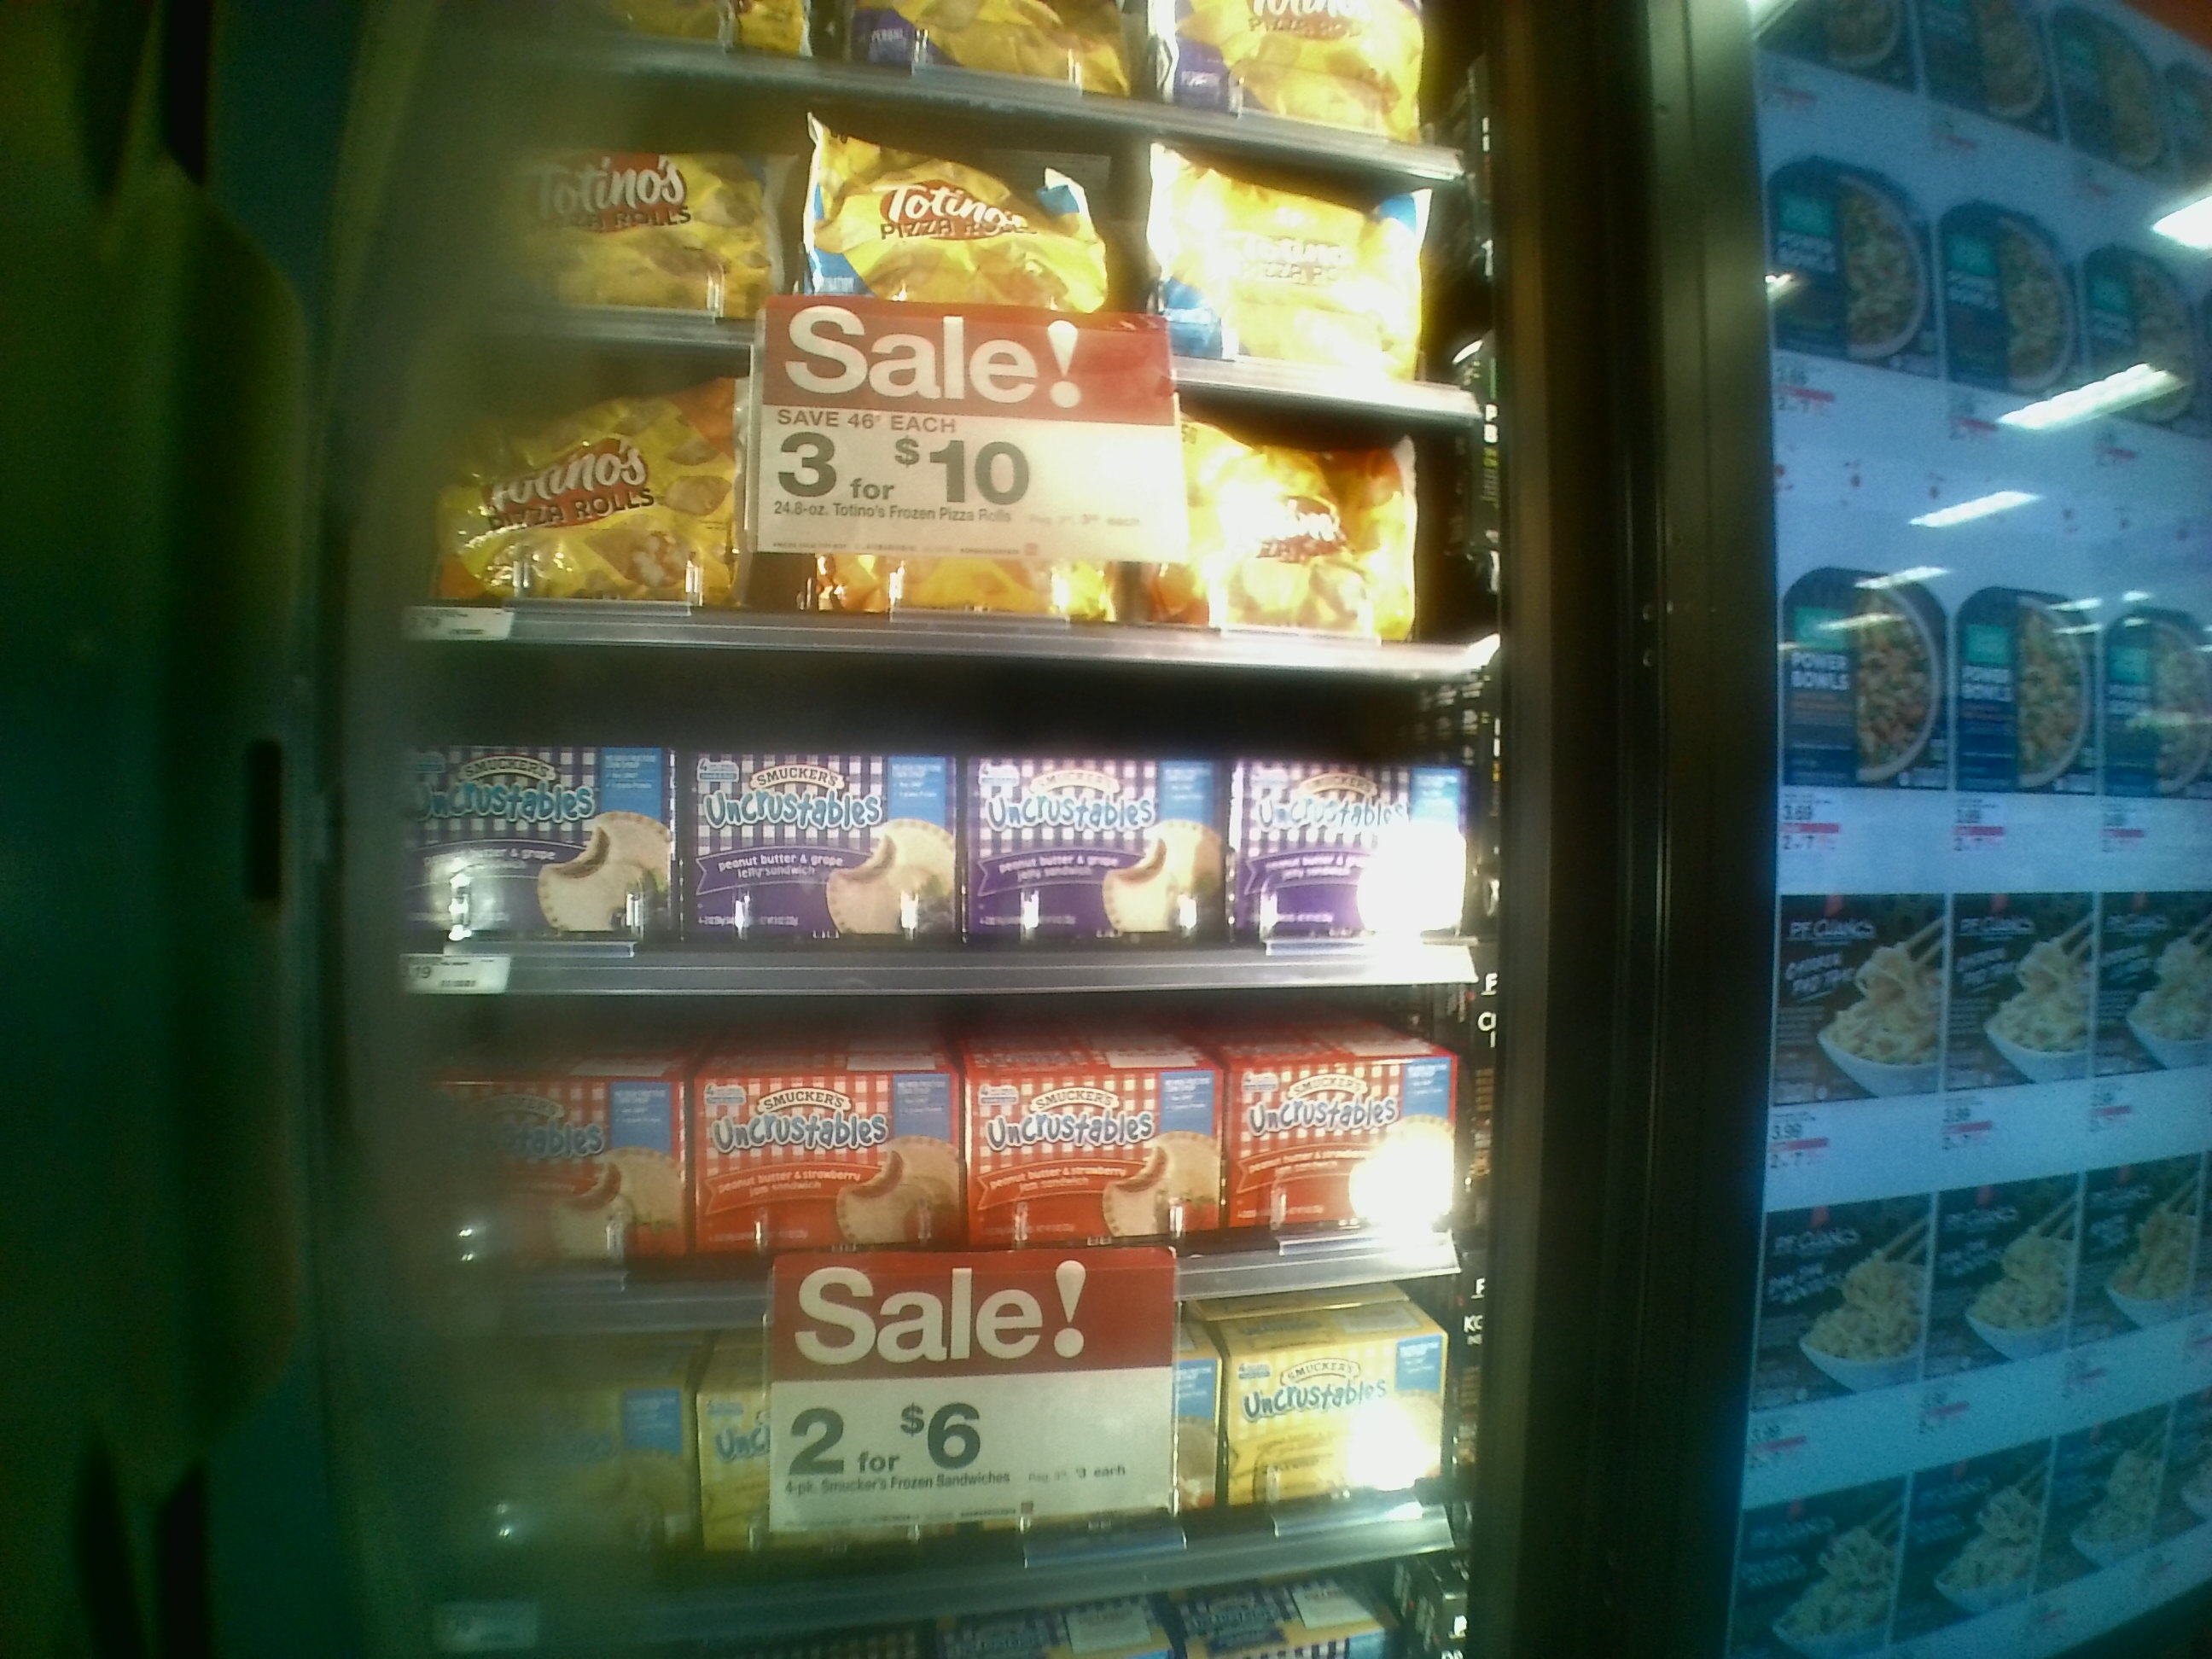shelf: (388, 640, 1501, 993), (409, 335, 1493, 688), (378, 992, 1477, 1288)
